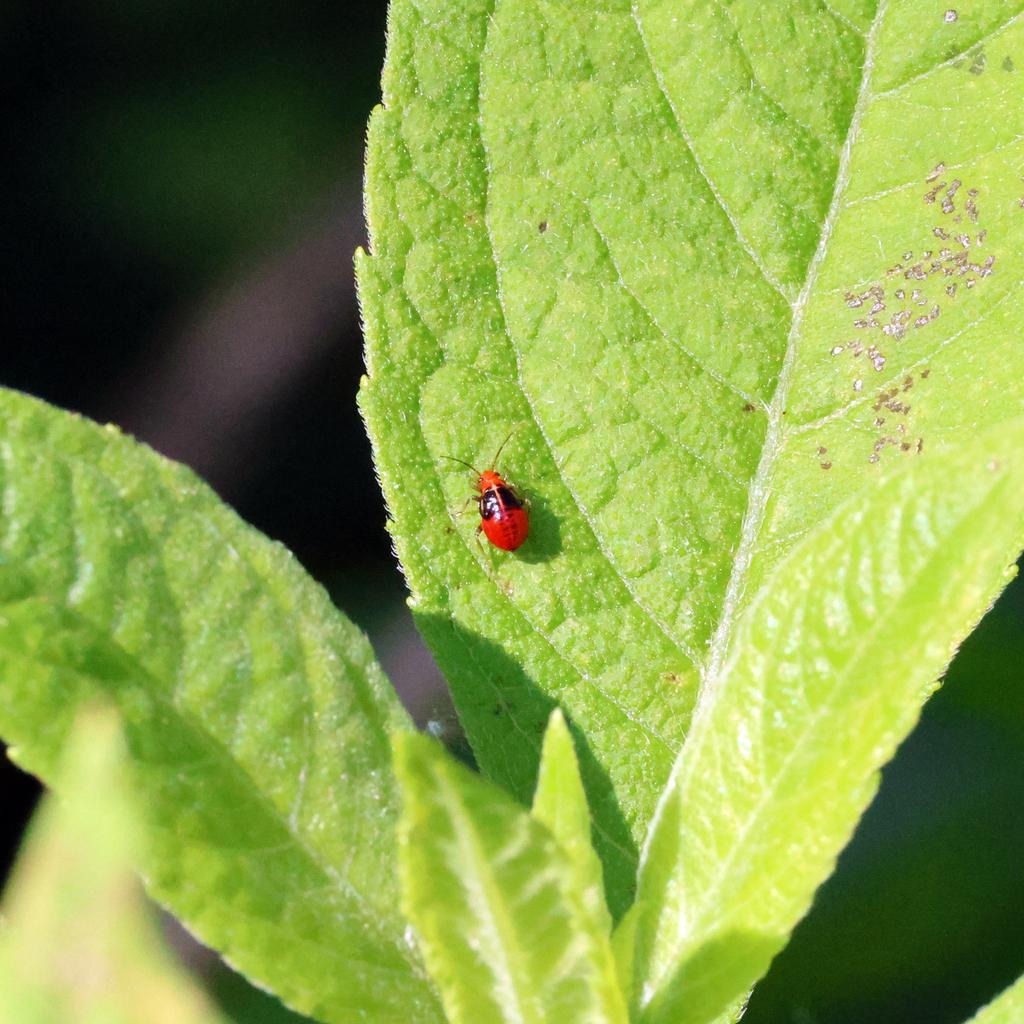plant_bugs: (414, 413, 561, 586)
